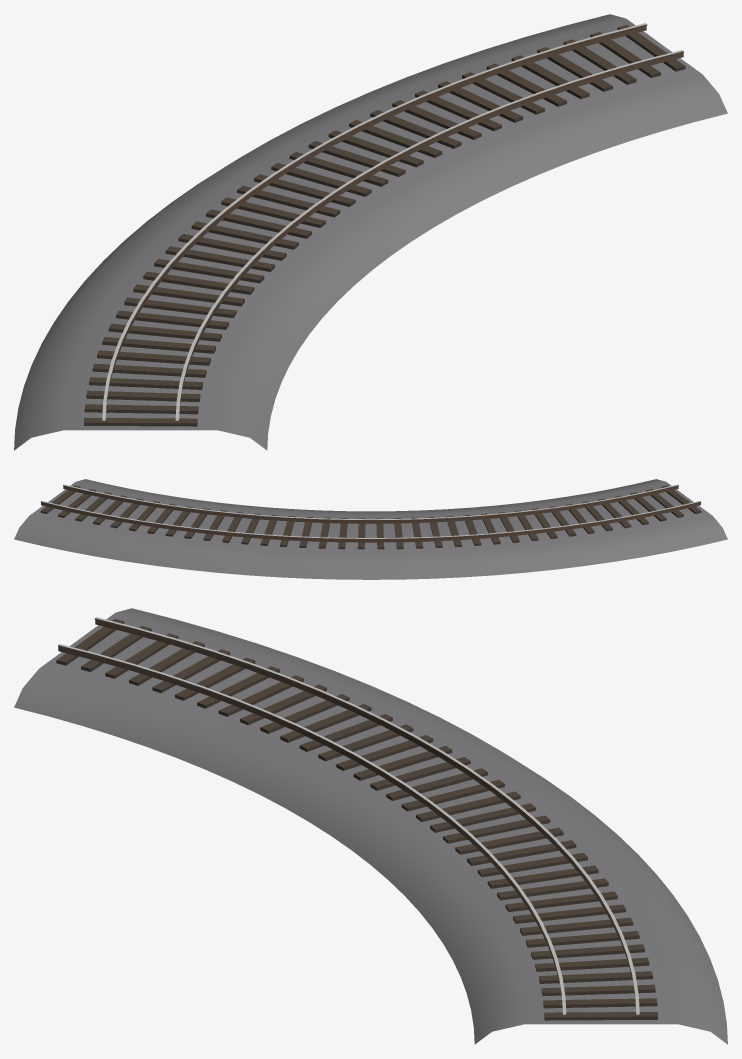
File: rail_bend_120_center.glb
3 views of the same model, one above another, from view 1: azimuth 30°, elevation 25°; view 2: azimuth 150°, elevation 25°; view 3: azimuth 270°, elevation 25° (orthographic). The views are drawn at different scales.
Parts seen in each view (by area): view 1: rail_bend_120_center_lod0; view 2: rail_bend_120_center_lod0; view 3: rail_bend_120_center_lod0.
Boxes of the visible parts, x1=… form: rail_bend_120_center_lod0: x1=14, y1=14, x2=727, y2=450; rail_bend_120_center_lod0: x1=14, y1=479, x2=727, y2=579; rail_bend_120_center_lod0: x1=14, y1=608, x2=727, y2=1044.
Size of what is drawn, in the model's own units: 23.3 by 0.76 by 16.35.
